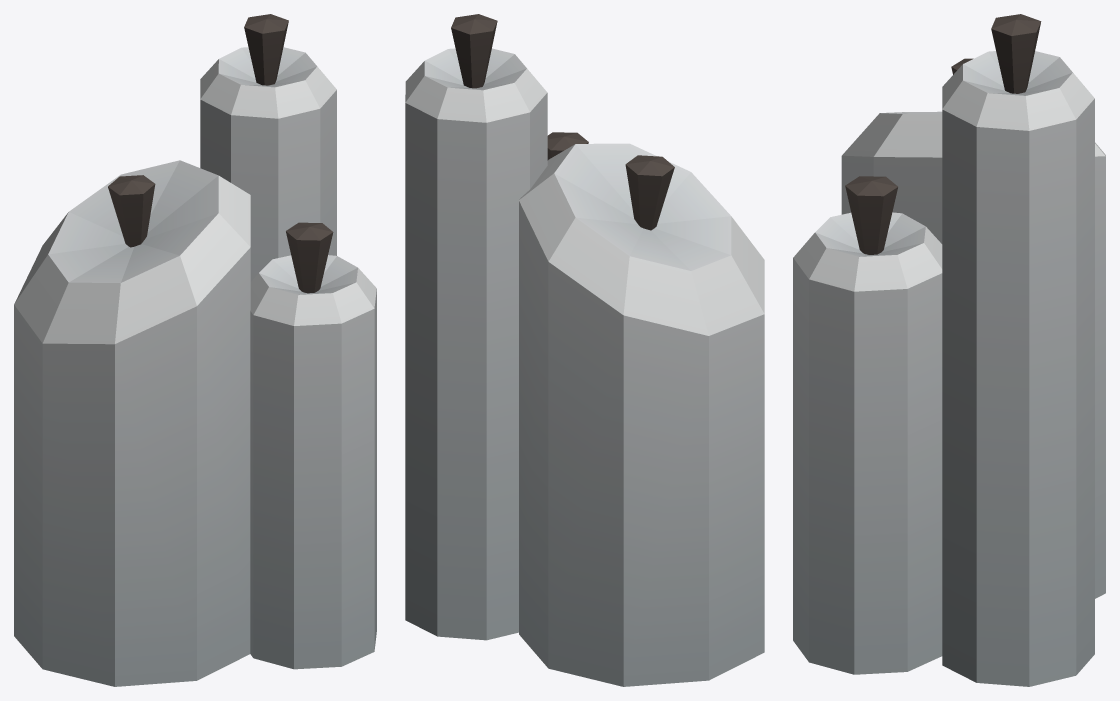
Rendered from EVHalloween_Decor_CandleCluster.fbx.
3 renders of one model, left to right at view 1: azimuth 30°, elevation 25°; view 2: azimuth 150°, elevation 25°; view 3: azimuth 270°, elevation 25°, orthographic. The views are drawn at different scales.
Parts seen in each view (by area): view 1: EVHalloween_Decor_CandleCluster; view 2: EVHalloween_Decor_CandleCluster; view 3: EVHalloween_Decor_CandleCluster.
Boxes of the visible parts, bbox=[...] form: EVHalloween_Decor_CandleCluster: bbox=[14, 14, 376, 686]; EVHalloween_Decor_CandleCluster: bbox=[405, 14, 764, 686]; EVHalloween_Decor_CandleCluster: bbox=[793, 14, 1105, 686].
Bounding box in the file's own units: 12.63 × 22 × 9.83.
